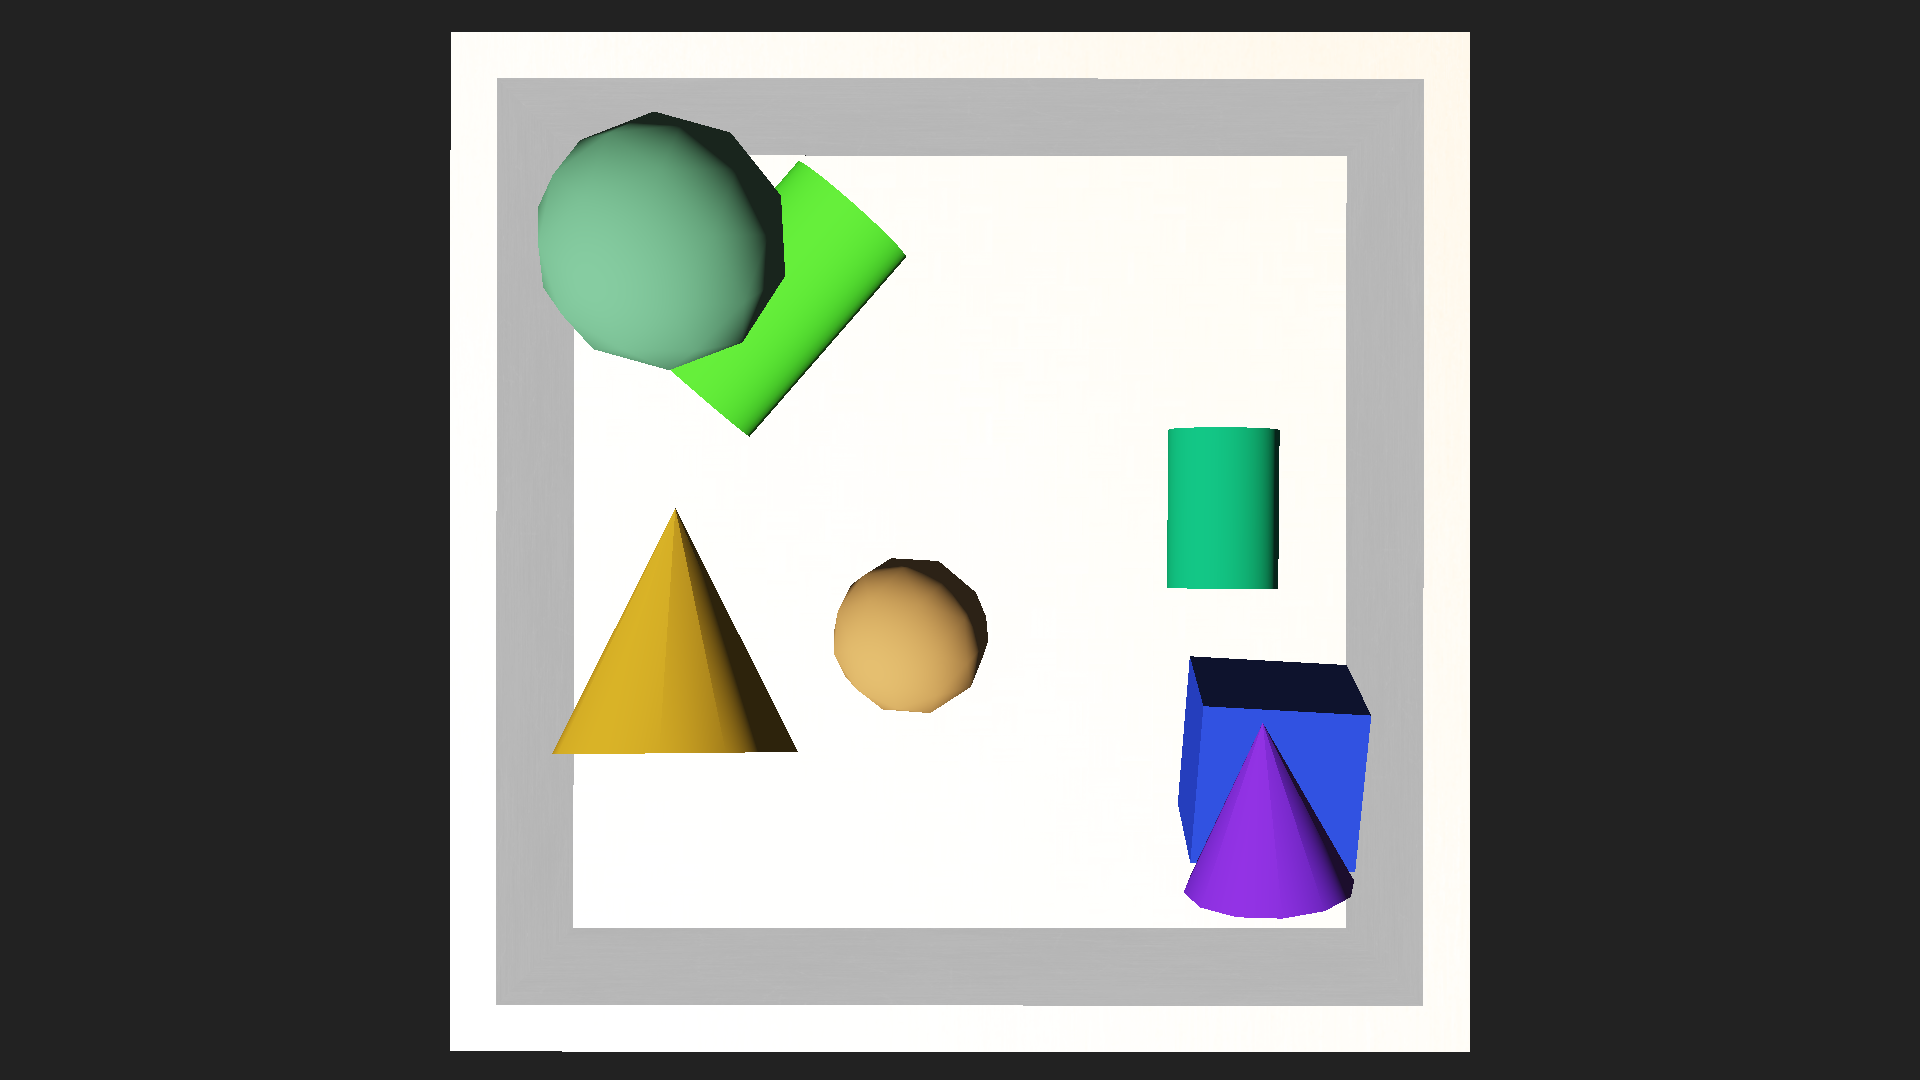cone: (1162, 426, 1287, 589)
cylinder: (526, 492, 807, 778), (1171, 692, 1366, 926)
sphere: (533, 112, 790, 369), (829, 555, 990, 715)
